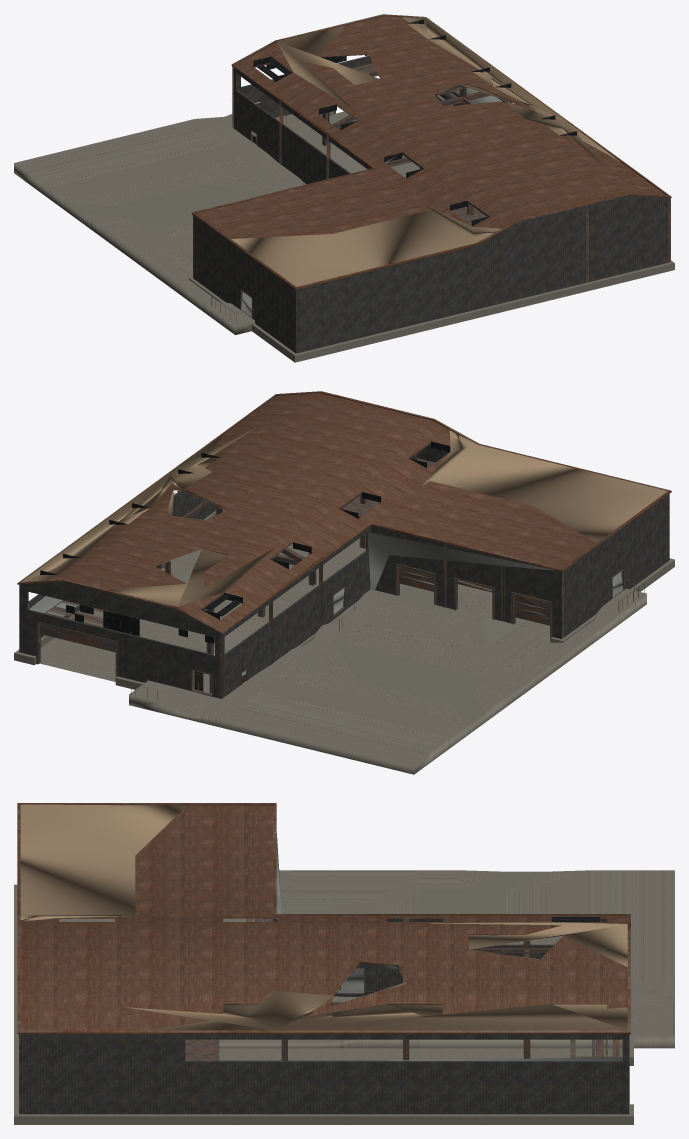
The model's file is abandoned_warehouse.gltf.
The picture shows the model from 3 angles, top to bottom: view 1: azimuth 30°, elevation 25°; view 2: azimuth 150°, elevation 25°; view 3: azimuth 270°, elevation 25°; orthographic projection. The views are drawn at different scales.
Visible parts, largest first — view 1: warehouse-roof, warehouse-wall, warehouse-steps, warehouse-impostor, warehouse-concrete, warehouse-metal, warehouse-window; view 2: warehouse-roof, warehouse-steps, warehouse-wall, warehouse-impostor, warehouse-metal, warehouse-concrete, warehouse-window; view 3: warehouse-roof, warehouse-wall, warehouse-impostor, warehouse-steps, warehouse-concrete, warehouse-metal.
Boxes of the visible parts, x1,y1,x2,y2 form: warehouse-roof: [191, 14, 671, 289]; warehouse-wall: [194, 56, 668, 353]; warehouse-steps: [14, 114, 367, 334]; warehouse-impostor: [231, 17, 618, 316]; warehouse-concrete: [188, 95, 674, 362]; warehouse-metal: [193, 56, 670, 323]; warehouse-window: [253, 19, 576, 226]; warehouse-roof: [17, 391, 671, 634]; warehouse-steps: [129, 538, 646, 774]; warehouse-wall: [19, 444, 669, 698]; warehouse-impostor: [21, 427, 667, 675]; warehouse-metal: [36, 442, 644, 700]; warehouse-concrete: [14, 509, 674, 689]; warehouse-window: [40, 441, 449, 643]; warehouse-roof: [17, 803, 630, 1034]; warehouse-wall: [19, 918, 629, 1114]; warehouse-impostor: [20, 804, 627, 1060]; warehouse-steps: [219, 870, 674, 1048]; warehouse-concrete: [14, 884, 633, 1124]; warehouse-metal: [185, 805, 673, 1103].
Size of the model in its own units: 25.97 by 5.4 by 30.
6 materials, 6 textured.
